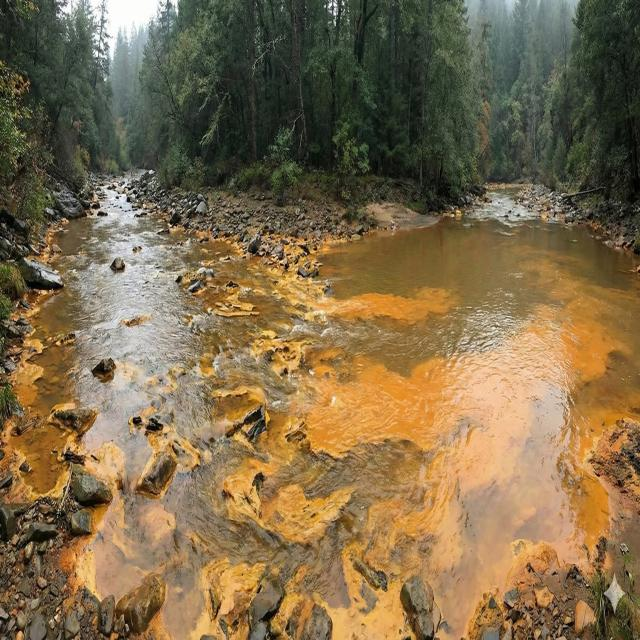yellow_boy: (2, 186, 640, 640)
